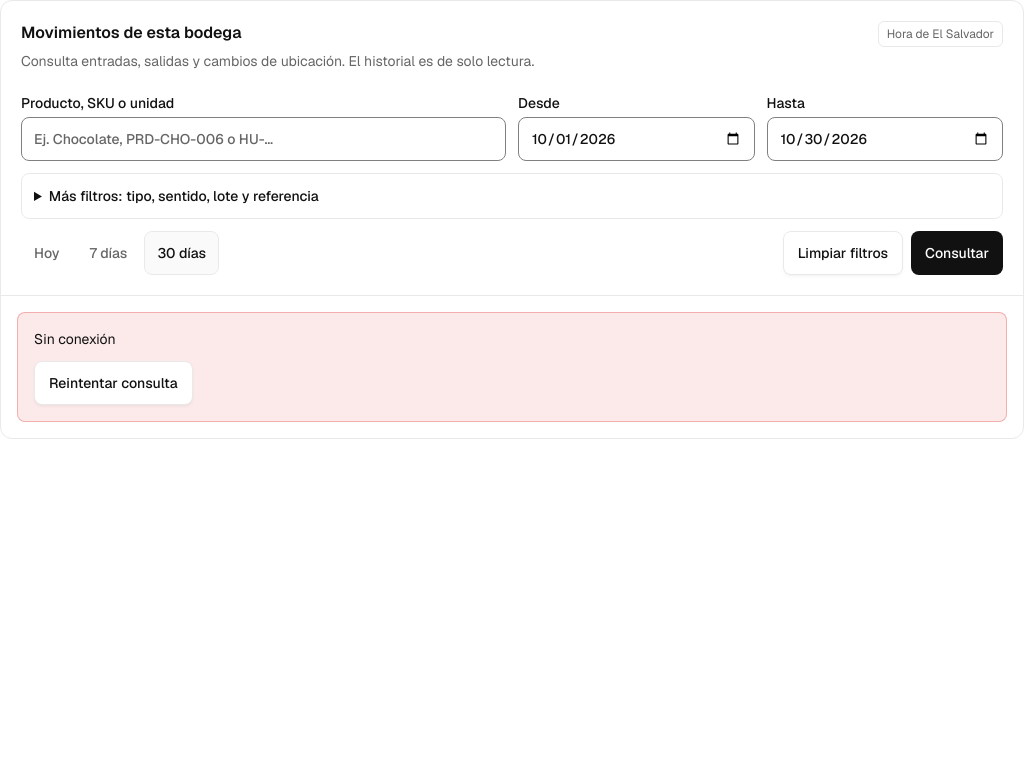
Movimientos del bodeguero › ofrece reintento y un vacío con recuperación
expect the message reads "Sin conexión": met, box 34,330 -> 116,348
Step 1. Click the button "Reintentar consulta" → (113, 383), box 34,361 -> 193,405
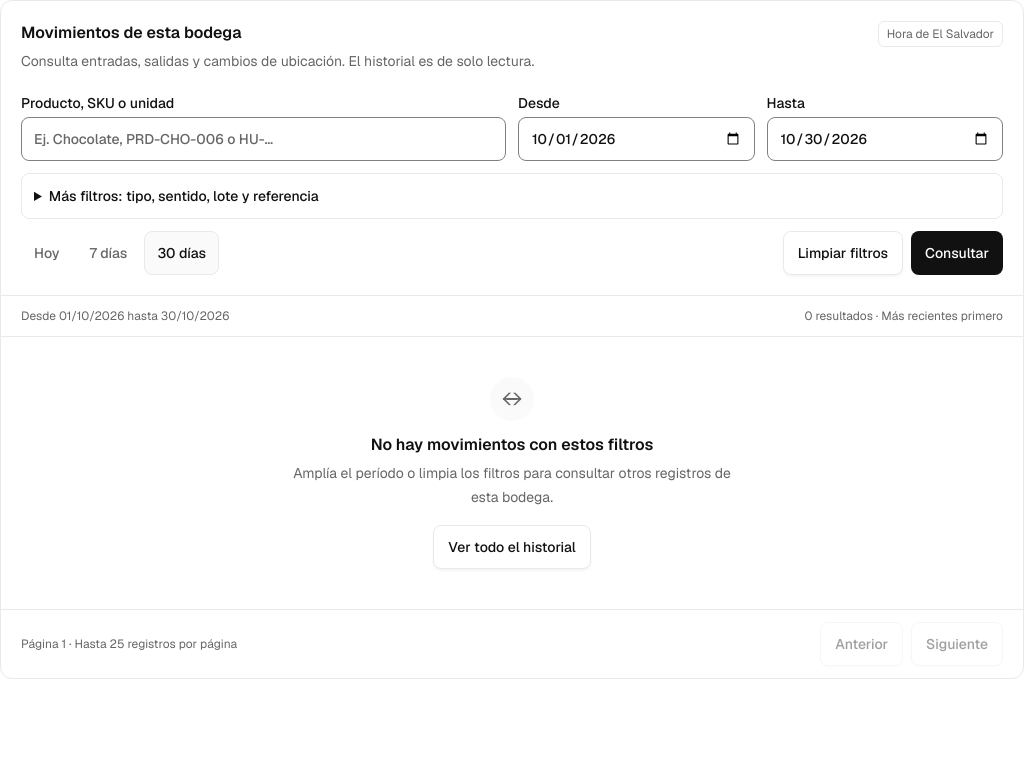
expect the text "No hay movimientos con estos filtros" is shown: met, box 371,434 -> 653,455
expect the button "Ver todo el historial" is shown: met, box 433,525 -> 591,569
